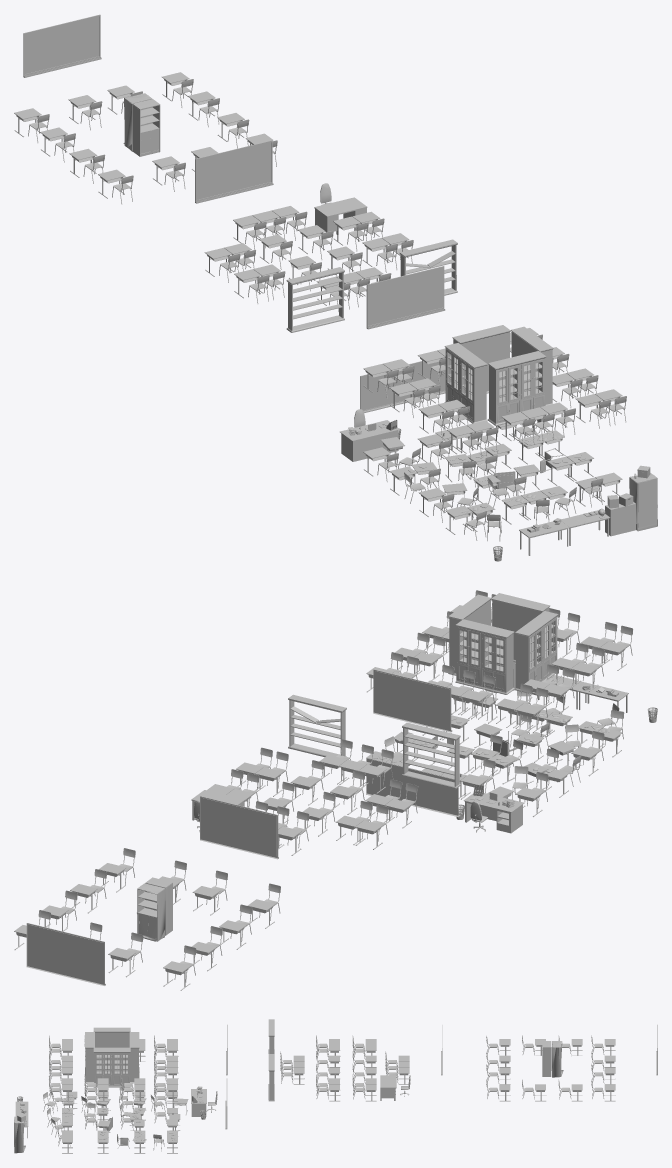
The model's file is Props_Arranged.fbx.
3 renders of one model, top to bottom at view 1: azimuth 30°, elevation 25°; view 2: azimuth 150°, elevation 25°; view 3: azimuth 270°, elevation 25°, orthographic. The views are drawn at different scales.
Visible parts, largest first — view 1: Blackboard__2_, Blackboard, Blackboard__1_, Cupboard, Cupboard_4, CupboardLight, SM_blackboard, SM_Shelves_01_Narrow_LOD0, Cupboard_2, Teacher_Desk, CupboardLight_Broken, Cupboard_3 (+3 smaller); view 2: Blackboard__2_, Blackboard, Blackboard__1_, Cupboard_2, SM_blackboard, CupboardLight, Cupboard_4, CupboardLight_Broken, Cupboard, Teacher_Desk, Cupboard_3, SM_Shelves_01_Narrow_LOD3_1 (+1 smaller); view 3: Cupboard_3, Cupboard_4, Cupboard, Cupboard_2, TableOffice, Teacher_Desk, SM_Shelves_01_Narrow_LOD0, CupboardLight_Broken, SM_Shelves_01_Narrow_LOD3_1, SM_Shelves_01_Narrow_LOD3_2, CupboardLight.
Boxes of the visible parts, left/top/right/bottom form: Blackboard__2_: left=366, top=266, right=445, bottom=329; Blackboard: left=23, top=14, right=101, bottom=77; Blackboard__1_: left=195, top=140, right=273, bottom=203; Cupboard: left=487, top=351, right=546, bottom=425; Cupboard_4: left=444, top=343, right=487, bottom=423; CupboardLight: left=286, top=267, right=344, bottom=332; SM_blackboard: left=360, top=357, right=445, bottom=413; SM_Shelves_01_Narrow_LOD0: left=132, top=99, right=160, bottom=156; Cupboard_2: left=452, top=325, right=510, bottom=393; Teacher_Desk: left=340, top=420, right=400, bottom=461; CupboardLight_Broken: left=399, top=239, right=457, bottom=295; Cupboard_3: left=511, top=326, right=553, bottom=405; Blackboard__2_: left=373, top=669, right=452, bottom=732; Blackboard: left=26, top=923, right=105, bottom=985; Blackboard__1_: left=200, top=796, right=278, bottom=859; Cupboard_2: left=455, top=619, right=514, bottom=694; SM_blackboard: left=366, top=757, right=460, bottom=817; CupboardLight: left=402, top=722, right=460, bottom=789; Cupboard_4: left=515, top=611, right=558, bottom=693; CupboardLight_Broken: left=288, top=694, right=346, bottom=757; Cupboard: left=491, top=593, right=550, bottom=662; Teacher_Desk: left=463, top=791, right=524, bottom=833; Cupboard_3: left=448, top=594, right=491, bottom=675; SM_Shelves_01_Narrow_LOD3_1: left=137, top=885, right=165, bottom=941; Cupboard_3: left=93, top=1047, right=130, bottom=1087; Cupboard_4: left=93, top=1027, right=130, bottom=1047; Cupboard: left=85, top=1032, right=94, bottom=1083; Cupboard_2: left=129, top=1032, right=139, bottom=1083; TableOffice: left=380, top=1075, right=396, bottom=1100; Teacher_Desk: left=191, top=1089, right=206, bottom=1116; SM_Shelves_01_Narrow_LOD0: left=542, top=1041, right=551, bottom=1076; CupboardLight_Broken: left=268, top=1054, right=274, bottom=1101; SM_Shelves_01_Narrow_LOD3_1: left=551, top=1041, right=563, bottom=1077; SM_Shelves_01_Narrow_LOD3_2: left=14, top=1117, right=25, bottom=1153; CupboardLight: left=268, top=1019, right=274, bottom=1053.
Size of what is drawn, in the model's own units: 660 by 553 by 3511.
